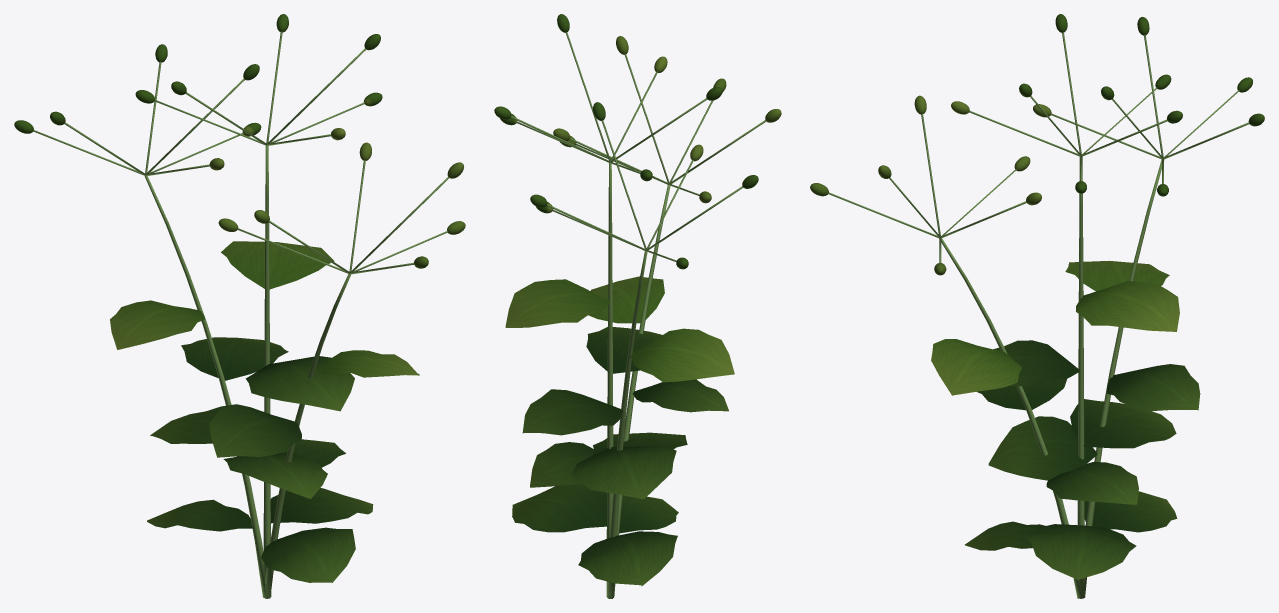
File: hydrangea-07-lod.glb
3 views of the same model, side by side, from view 1: azimuth 30°, elevation 25°; view 2: azimuth 150°, elevation 25°; view 3: azimuth 270°, elevation 25° (orthographic). The views are drawn at different scales.
Visible parts, largest first — view 1: hydrangea_stage_07_leaf_veins.013, hydrangea_stage_07_young_leaf.013, hydrangea_stage_07_stem_fibres.013; view 2: hydrangea_stage_07_leaf_veins.013, hydrangea_stage_07_young_leaf.013, hydrangea_stage_07_stem_fibres.013; view 3: hydrangea_stage_07_leaf_veins.013, hydrangea_stage_07_young_leaf.013, hydrangea_stage_07_stem_fibres.013.
Part boxes in pixels (x1,y1,x2,y2): hydrangea_stage_07_leaf_veins.013: [147, 337, 373, 582]; hydrangea_stage_07_young_leaf.013: [14, 14, 465, 377]; hydrangea_stage_07_stem_fibres.013: [33, 31, 448, 598]; hydrangea_stage_07_leaf_veins.013: [512, 327, 728, 586]; hydrangea_stage_07_young_leaf.013: [494, 14, 781, 382]; hydrangea_stage_07_stem_fibres.013: [511, 32, 765, 598]; hydrangea_stage_07_leaf_veins.013: [965, 340, 1200, 579]; hydrangea_stage_07_young_leaf.013: [810, 14, 1264, 395]; hydrangea_stage_07_stem_fibres.013: [828, 32, 1249, 598].
Bounding box in the file's own units: 0.3468 × 0.6028 × 0.4503.
Materials: 3 (2 with a texture image).
